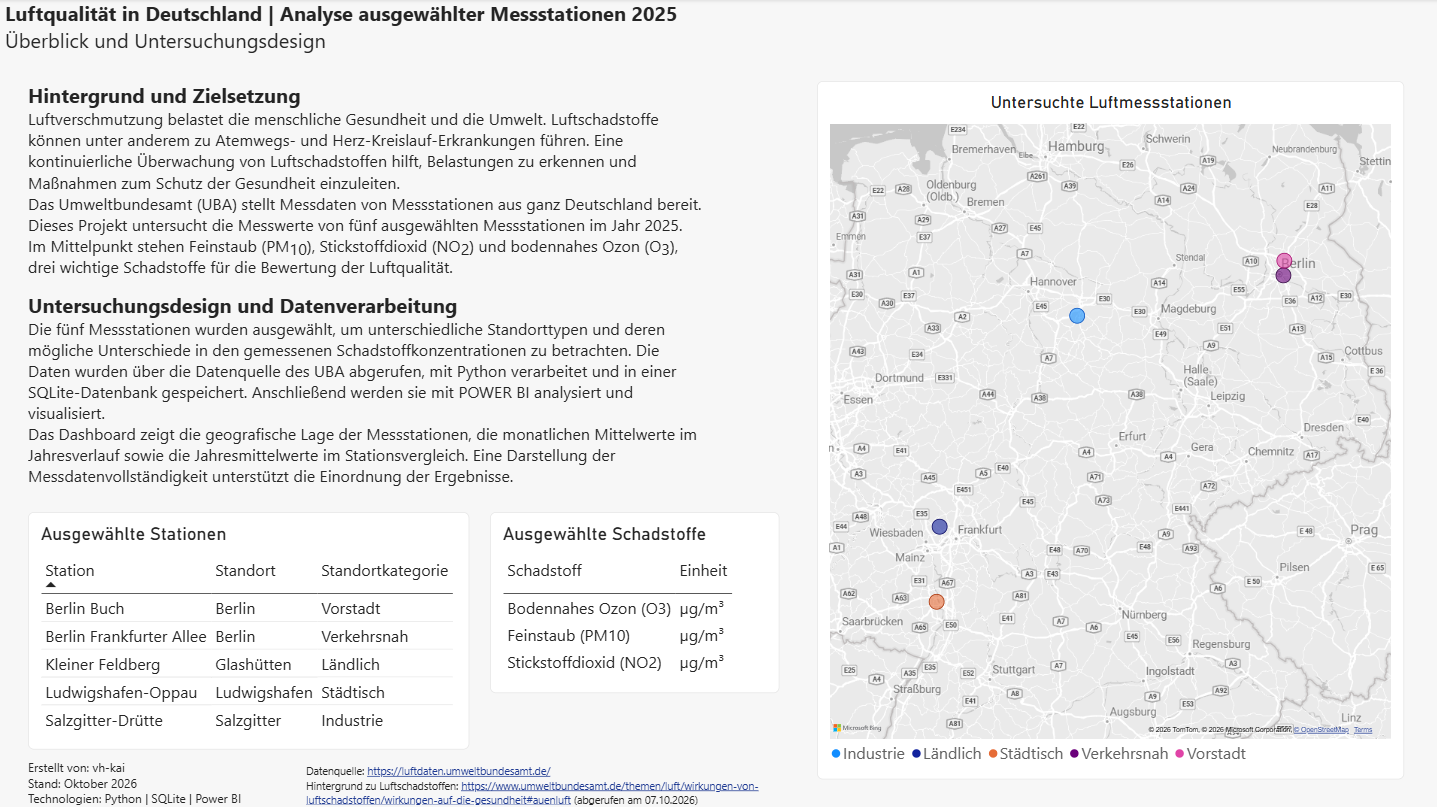

The page's visual inventory and layout, read from the dashboard file:
{"tool":"powerbi","page":{"name":"Seite 1","canvas":[1920,1080],"ordinal":0},"visuals":[{"type":"map","title":"Untersuchte Luftmessstationen ","fields":{"Series":["stations.Kategorie deutsch"],"X":["stations.station_longitude"],"Y":["stations.station_latitude"]},"box":[1092,109.2,780.7,929],"z":0},{"type":"textbox","box":[11.4,0,924.1,81.5],"z":1000},{"type":"tableEx","title":"Ausgewählte Stationen","fields":{"Values":["stations.station_name","stations.station_city","stations.Kategorie deutsch"]},"box":[42.4,682.9,586.8,316.2],"z":2000},{"type":"tableEx","title":"Ausgewählte Schadstoffe","fields":{"Values":["annual_mean_values.Schadstoffe","annual_mean_values.unit"]},"box":[656.8,682.9,384.7,241.2],"z":3000},{"type":"textbox","box":[42.4,109.2,896.4,573.7],"z":4000},{"type":"textbox","box":[412.4,1017,629.1,58.7],"z":5000},{"type":"textbox","box":[42.4,1010.5,363.5,70.1],"z":5001}]}

Visuals, with their boxes in screenshot pixels (x1, y1, x2, y2), scaled from the page's 1920x1080 canvas onto the 1437x807 screenshot:
"Untersuchte Luftmessstationen " map: <box>817,82,1402,776</box>
textbox: <box>9,0,700,61</box>
"Ausgewählte Stationen" tableEx: <box>32,510,471,747</box>
"Ausgewählte Schadstoffe" tableEx: <box>492,510,779,691</box>
textbox: <box>32,82,703,510</box>
textbox: <box>309,760,779,804</box>
textbox: <box>32,755,304,806</box>
